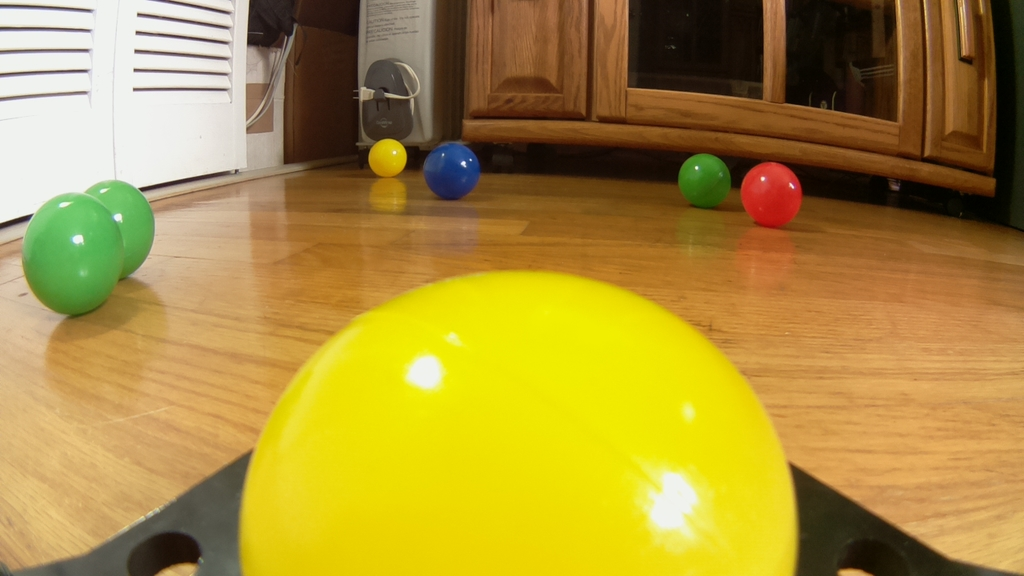ball: (236, 263, 804, 576)
